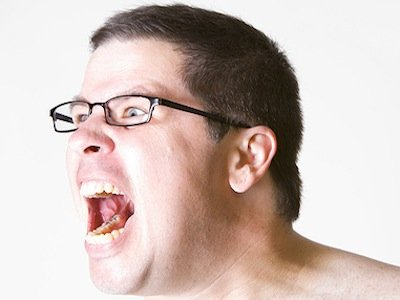angry: (52, 73, 189, 299)
